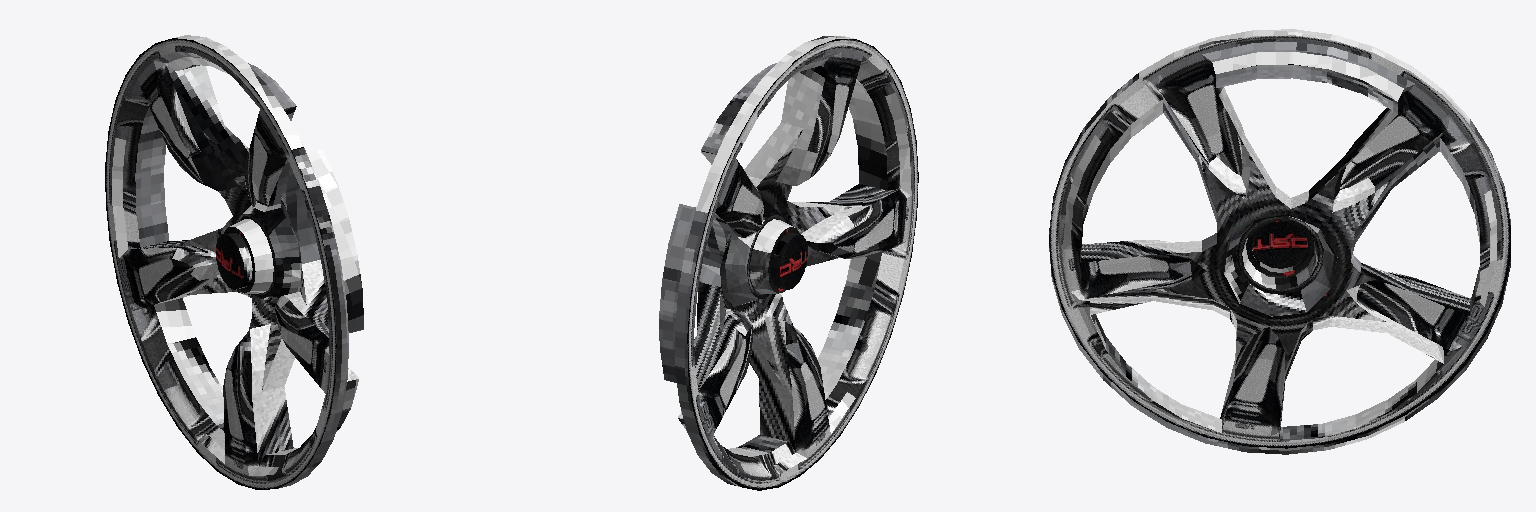
The picture shows the model from 3 angles: view 1: azimuth 30°, elevation 25°; view 2: azimuth 150°, elevation 25°; view 3: azimuth 270°, elevation 25°; orthographic projection.
Visible parts, largest first — view 1: Rin2_Carro; view 2: Rin2_Carro; view 3: Rin2_Carro.
Boxes of the visible parts, box(x1,y1,x2,y2) form: Rin2_Carro: box(105, 35, 363, 489); Rin2_Carro: box(659, 36, 918, 490); Rin2_Carro: box(1049, 29, 1510, 454).
Bounding box in the file's own units: 2.89 × 16.52 × 16.51.
1 materials, 1 textured.